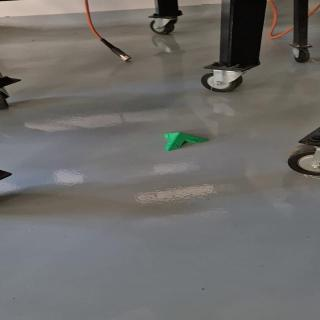eje: (163, 132, 210, 152)
